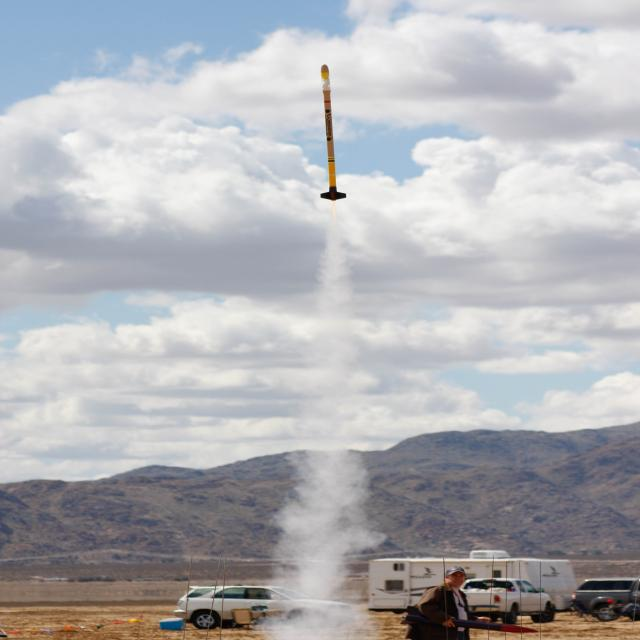Rocket: (318, 64, 348, 201)
